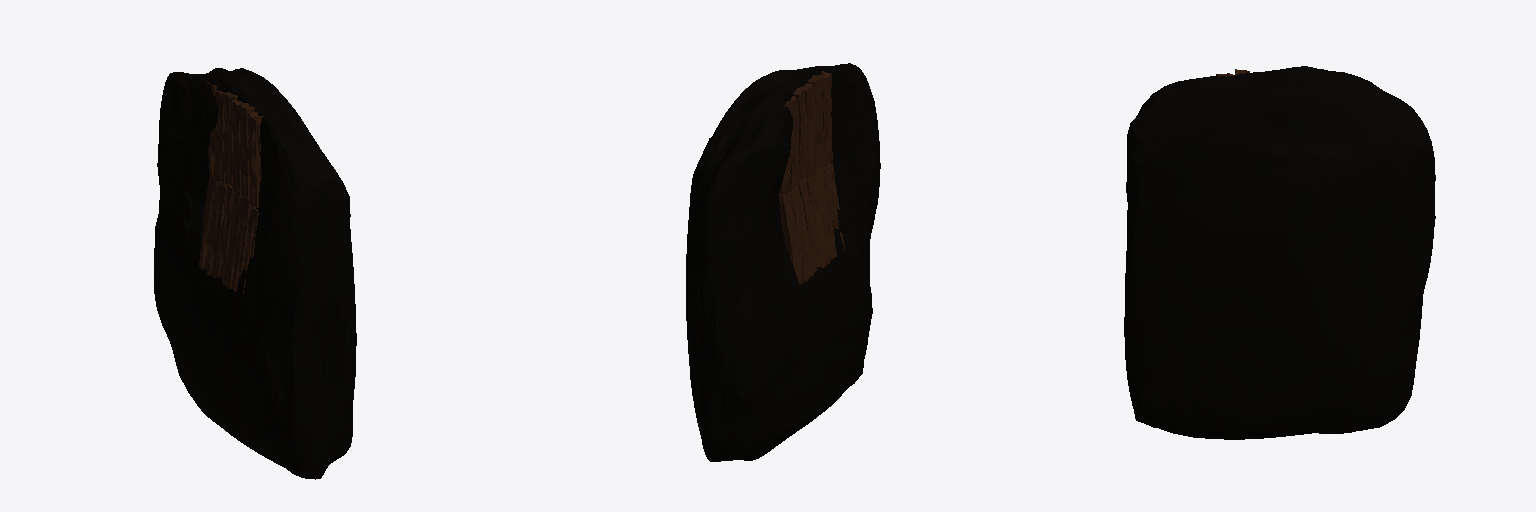
The model's file is 1pplate.obj.
3 renders of one model, left to right at view 1: azimuth 30°, elevation 25°; view 2: azimuth 150°, elevation 25°; view 3: azimuth 270°, elevation 25°, orthographic.
Parts seen in each view (by area): view 1: Cube.007_Cube.018, Cube.004_Cube.016, Cube.014_Cube.002; view 2: Cube.007_Cube.018, Cube.004_Cube.016, Cube.014_Cube.002; view 3: Cube.007_Cube.018.
Part boxes in pixels (x1,y1,x2,y2): Cube.007_Cube.018: (154, 68, 356, 479); Cube.004_Cube.016: (199, 175, 258, 298); Cube.014_Cube.002: (207, 82, 263, 207); Cube.007_Cube.018: (686, 63, 880, 461); Cube.004_Cube.016: (779, 162, 844, 284); Cube.014_Cube.002: (779, 71, 832, 194); Cube.007_Cube.018: (1124, 66, 1435, 439).
Size of the model in its own units: 2.25 by 7.19 by 5.63.